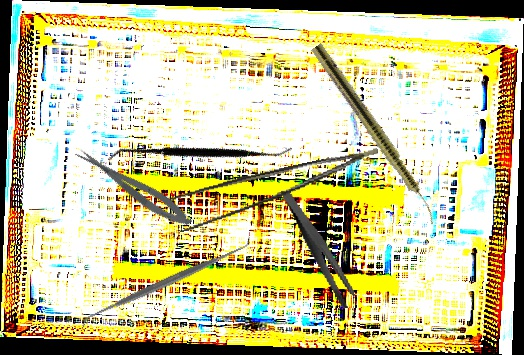Dressing Forceps: (282, 183, 358, 317)
Handpiece: (308, 42, 444, 226)
Micro Scissor: (72, 140, 196, 234)
Spatula Surgical: (106, 71, 294, 237), (74, 235, 257, 331)
Tissue Forceps: (162, 147, 386, 235)
